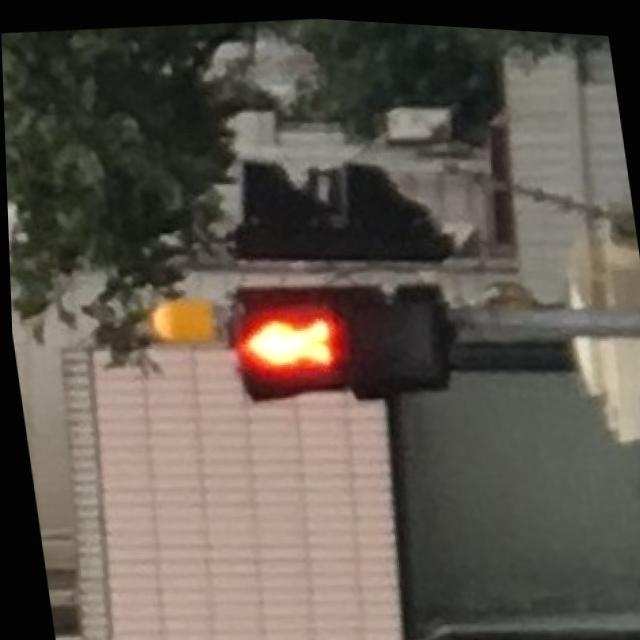red_light: (230, 284, 347, 393)
